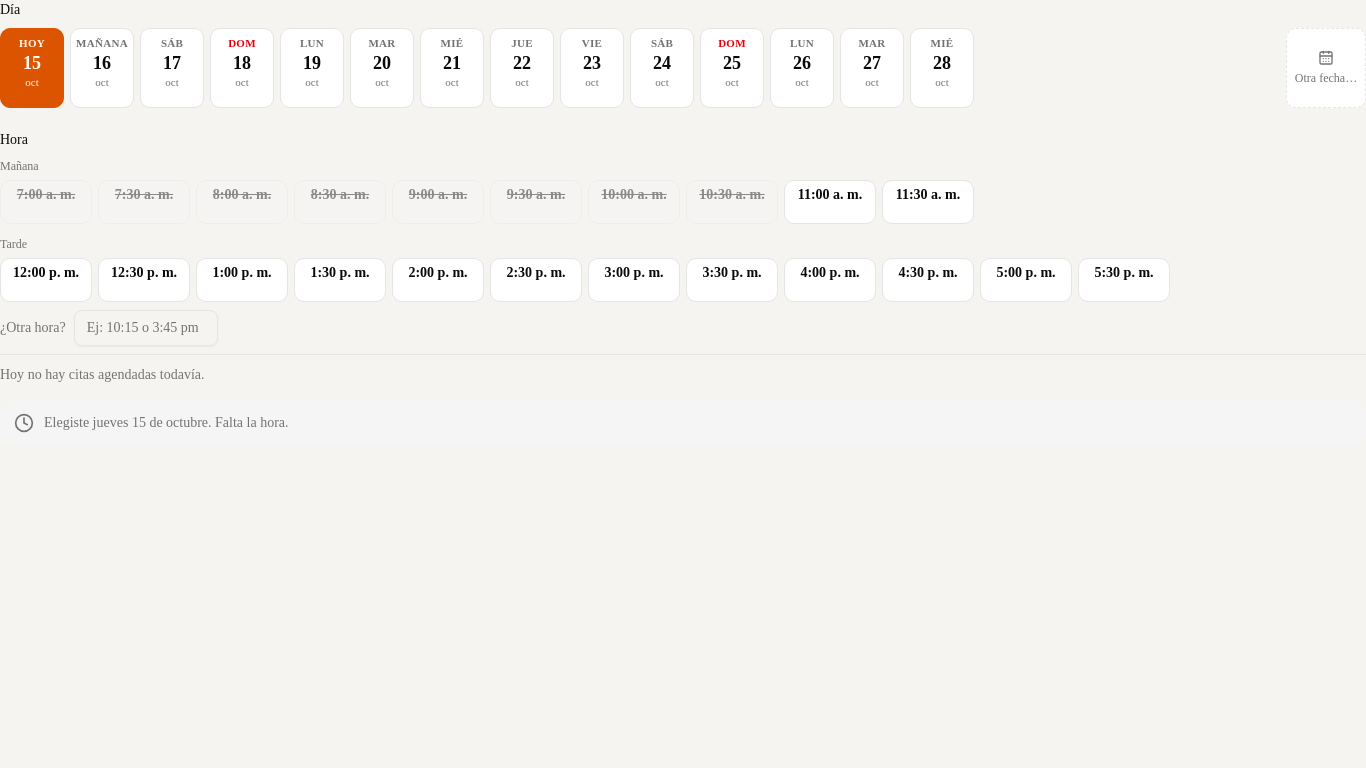
Test case: SelectorFechaHora › elige una fecha lejana desde el calendario
This screenshot has width=1366, height=768.
Click the button with aria-label "Elegir otra fecha en el calendario".
click(1326, 68)  # box [1286,28,1365,108]
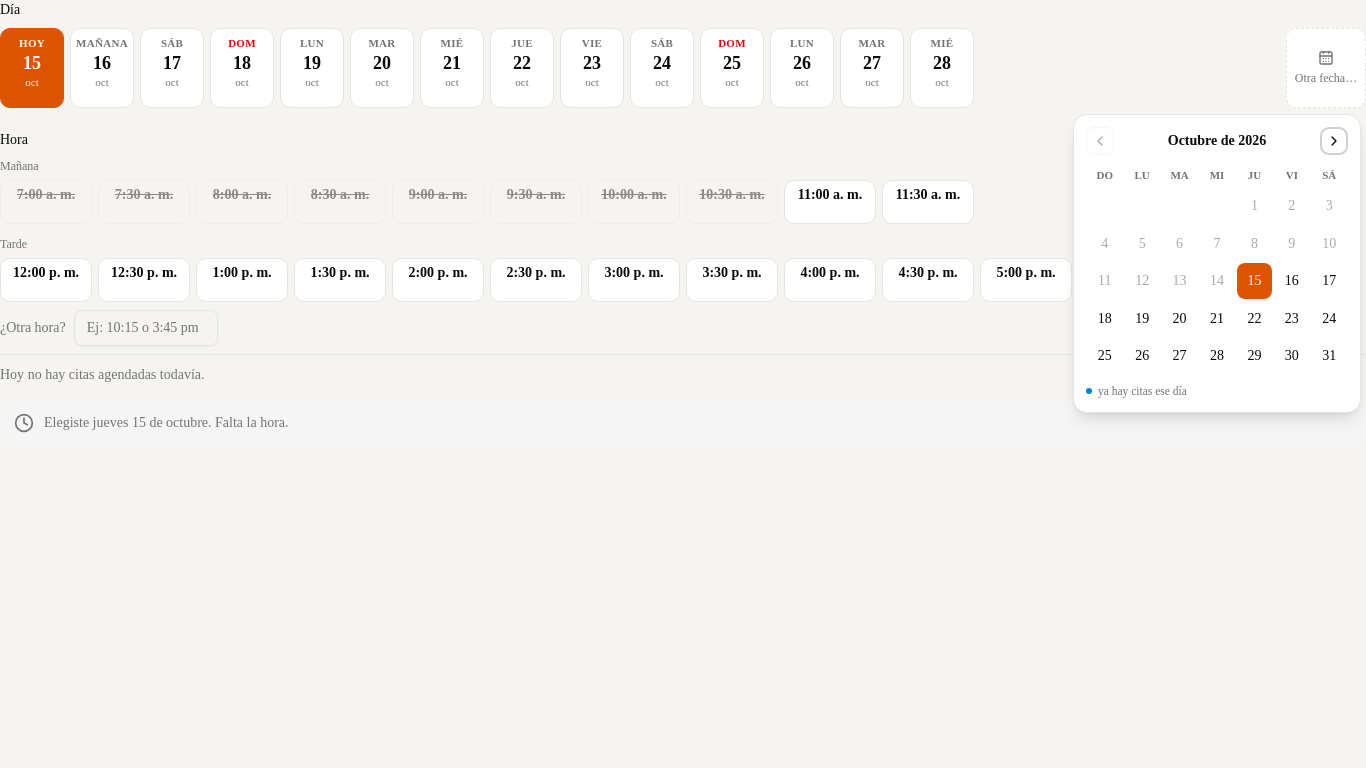
Click the button named "Mes siguiente".
click(1334, 141)  # box [1320,127,1348,155]
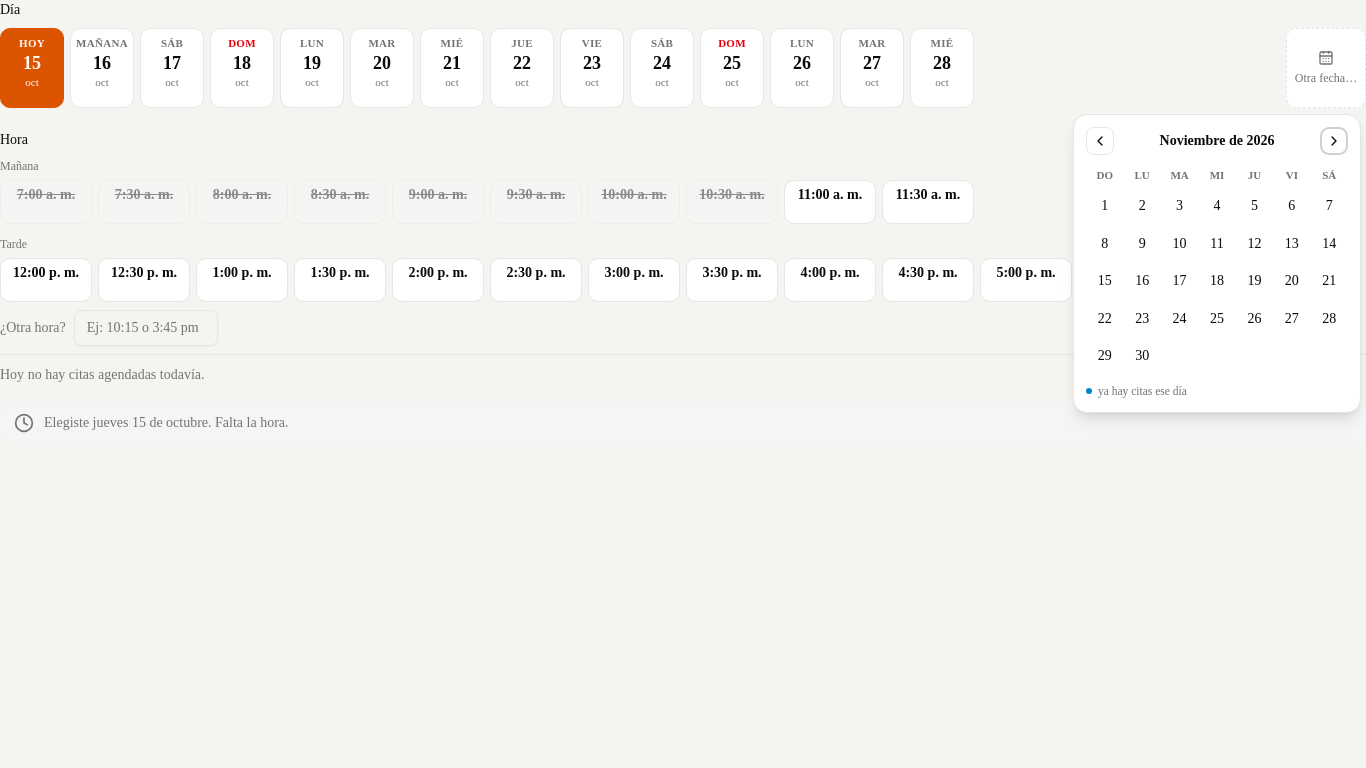
Click the button named "miércoles 25 de noviembre".
click(1217, 319)  # box [1199,301,1235,336]
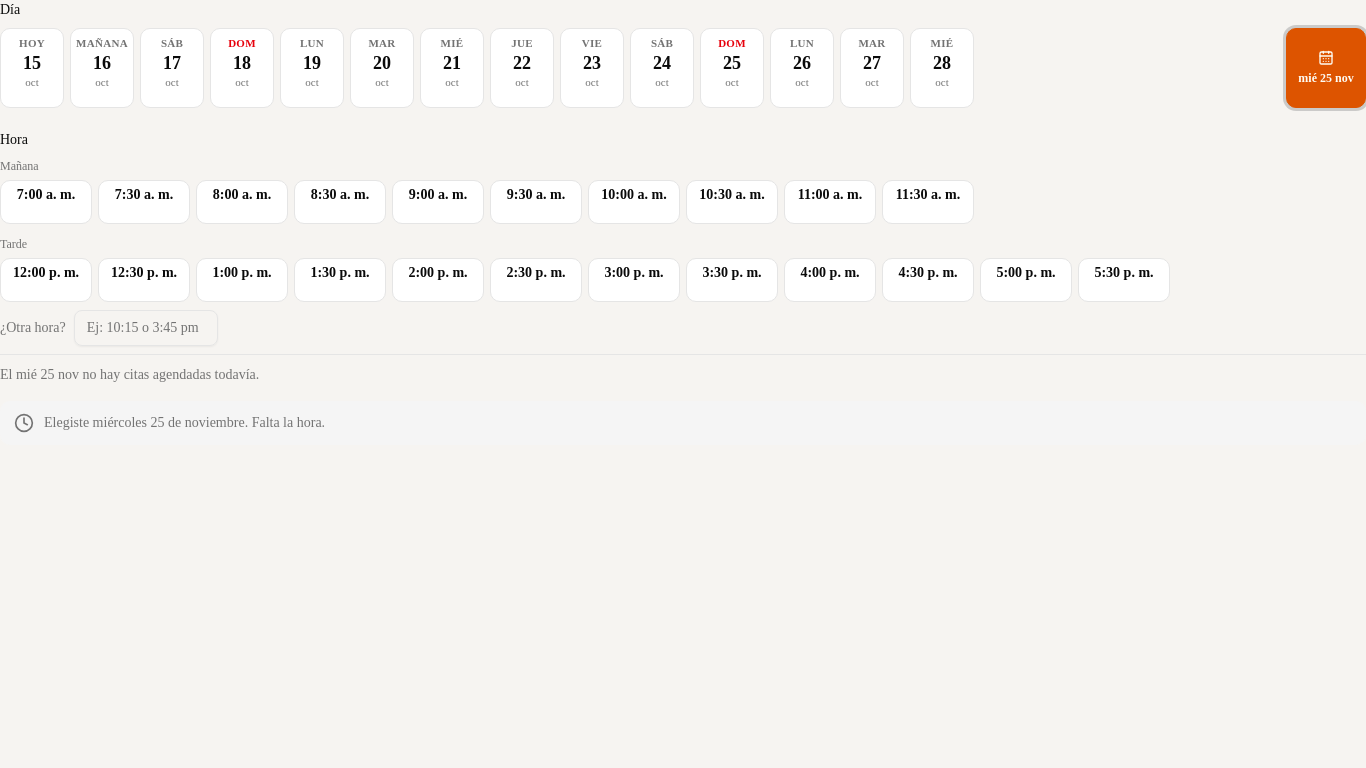
Expected: the button with aria-label "Fecha elegida: miércoles 25 de noviembre" is shown, [1286,28,1365,108]
Expected: the text "Elegiste miércoles 25 de noviembre. Falta la hora." is shown, [44,413,325,433]
